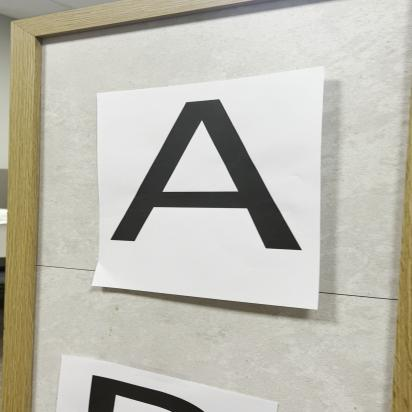seat: (102, 90, 320, 280)
